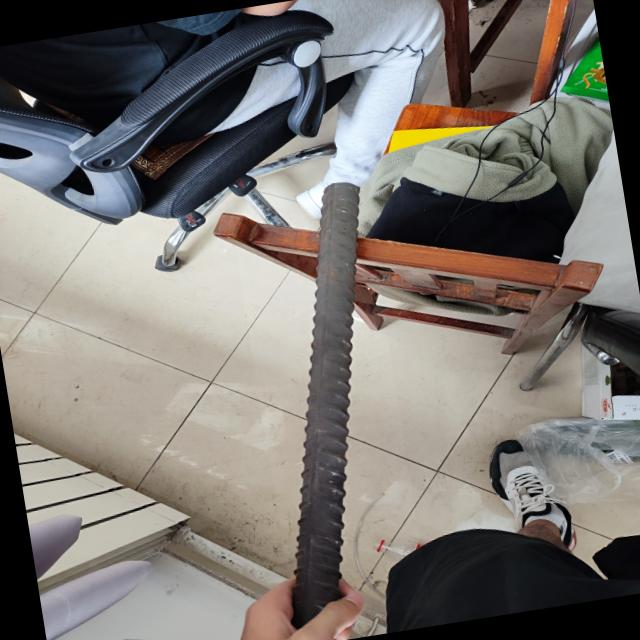ribbed bar: (227, 173, 430, 628)
